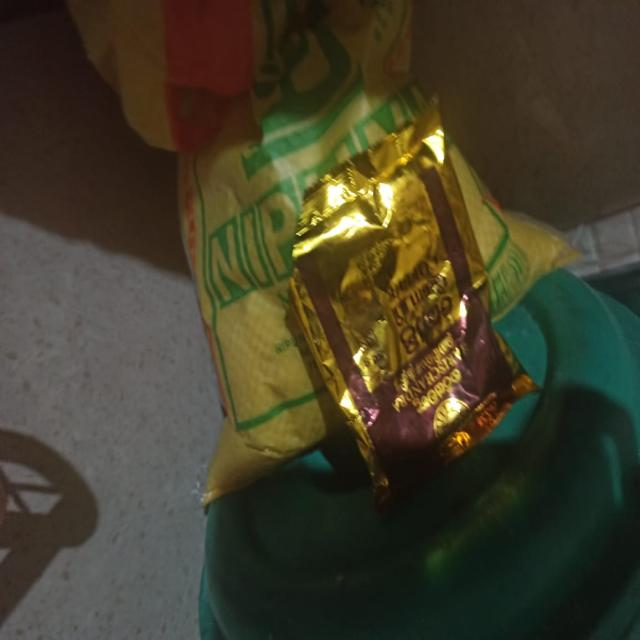Harischandra Coffee: (266, 162, 539, 491)
